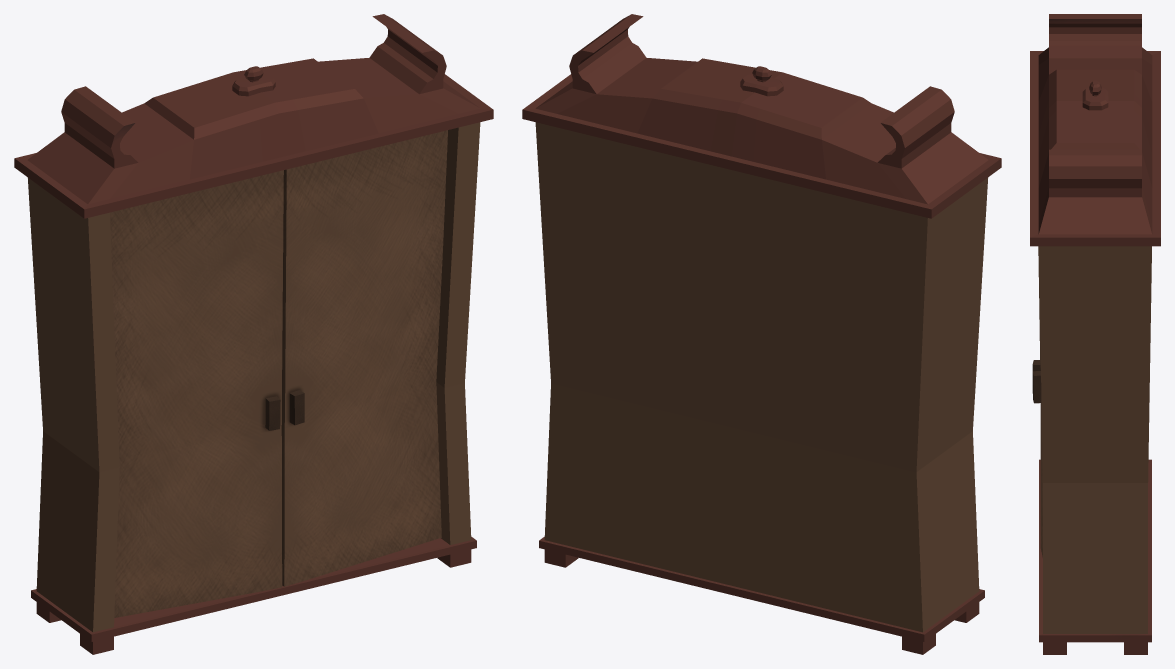
File: closet (2).fbx
3 renders of one model, left to right at view 1: azimuth 30°, elevation 25°; view 2: azimuth 150°, elevation 25°; view 3: azimuth 270°, elevation 25°, orthographic. The views are drawn at different scales.
Parts seen in each view (by area): view 1: Cube.001, Cube; view 2: Cube; view 3: Cube, Cube.001.
Boxes of the visible parts, x1,y1,x2,y2 form: Cube.001: [110, 130, 447, 617]; Cube: [14, 14, 493, 654]; Cube: [522, 14, 1001, 654]; Cube: [1030, 14, 1160, 654]; Cube.001: [1032, 246, 1042, 557].
Size of the model in its own units: 487 by 592 by 144.
